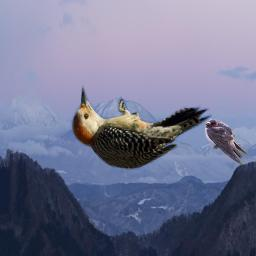Swallow: (204, 118, 249, 165)
Woodpecker: (60, 82, 218, 171)
